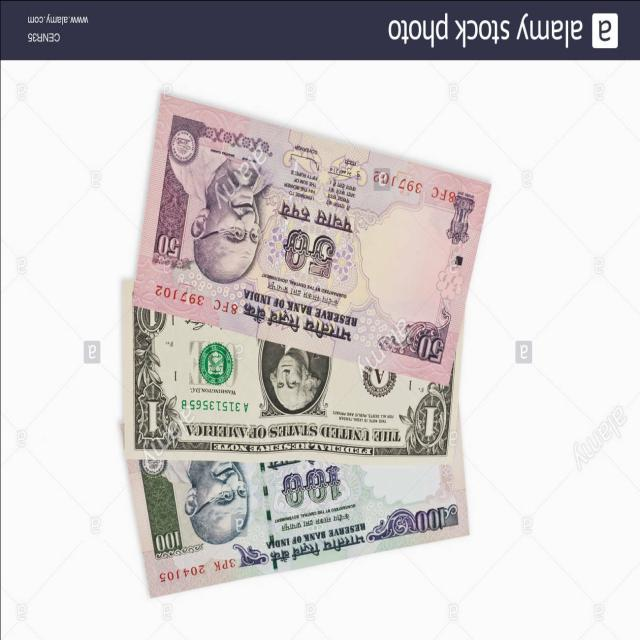100IndianRupees: (118, 378, 470, 601)
